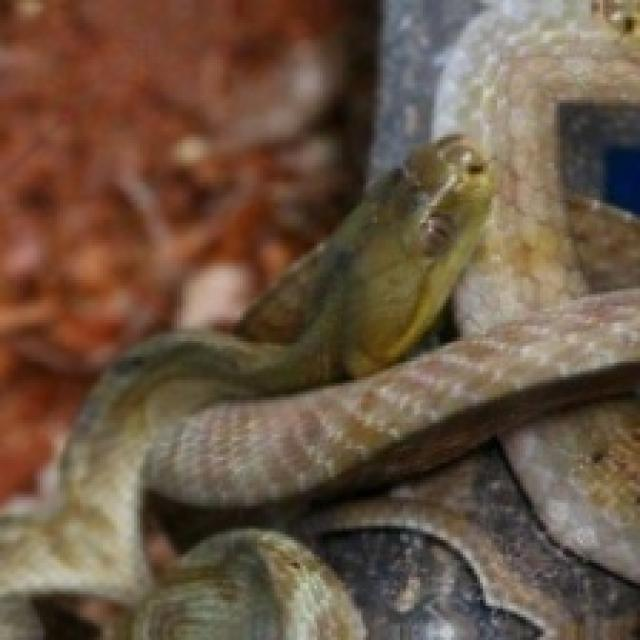philippine cat snake: (0, 134, 637, 637), (0, 134, 491, 637)
